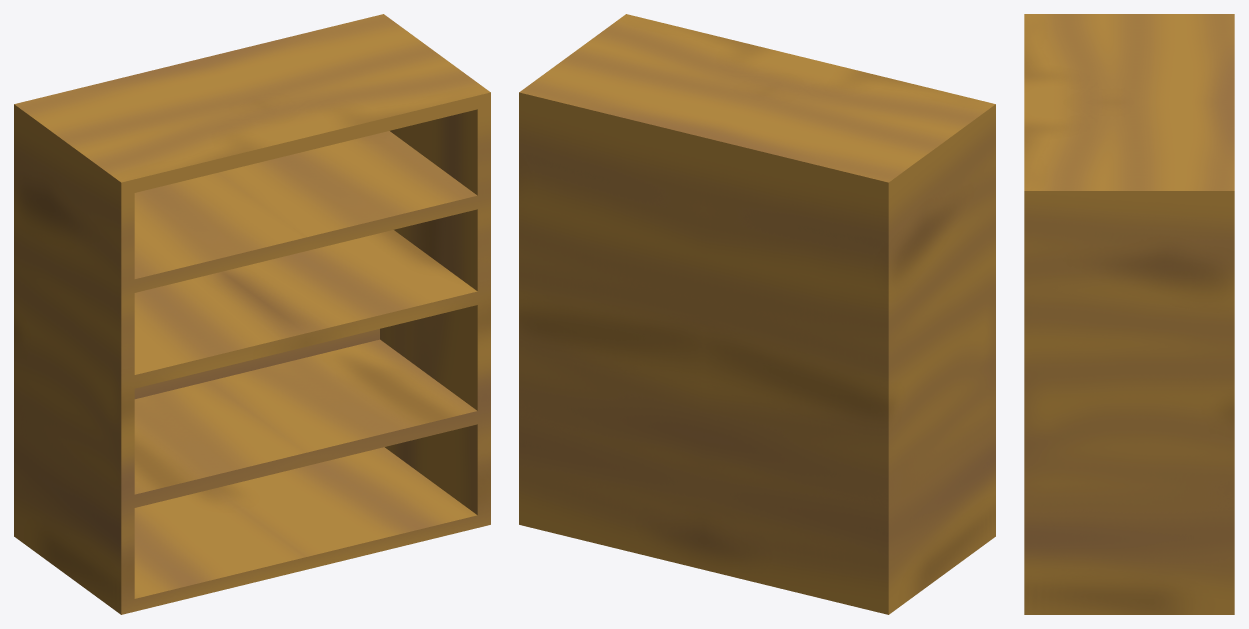
The model's file is bookcase.fbx.
3 renders of one model, left to right at view 1: azimuth 30°, elevation 25°; view 2: azimuth 150°, elevation 25°; view 3: azimuth 270°, elevation 25°, orthographic.
Visible parts, largest first — view 1: bookcase; view 2: bookcase; view 3: bookcase.
Boxes of the visible parts, bbox=[...] form: bookcase: bbox=[14, 14, 490, 614]; bookcase: bbox=[519, 14, 995, 614]; bookcase: bbox=[1024, 14, 1234, 614].
Bounding box in the file's own units: 440 × 492 × 221.
1 material, 1 textured.
